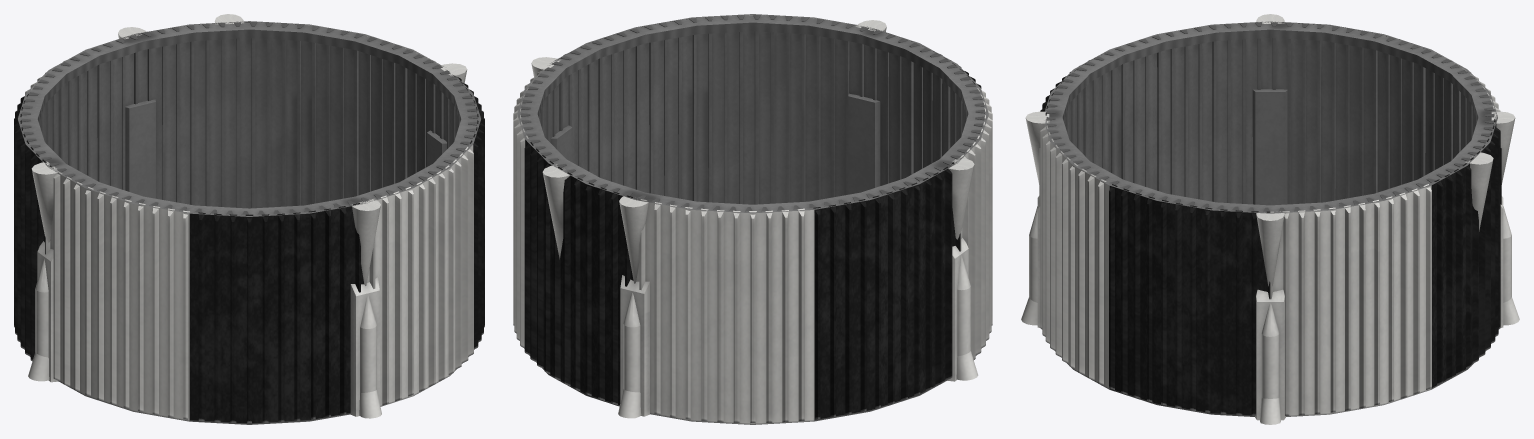
Rendered from ksprocket.fbx.
3 renders of one model, left to right at view 1: azimuth 30°, elevation 25°; view 2: azimuth 150°, elevation 25°; view 3: azimuth 270°, elevation 25°, orthographic. The views are drawn at different scales.
Visible parts, largest first — view 1: ullage.004; view 2: ullage.004; view 3: ullage.004.
Boxes of the visible parts, bbox=[...] form: ullage.004: bbox=[14, 14, 484, 424]; ullage.004: bbox=[513, 14, 992, 424]; ullage.004: bbox=[1021, 14, 1519, 424].
Size of the model in its own units: 1107 by 502 by 1107.
